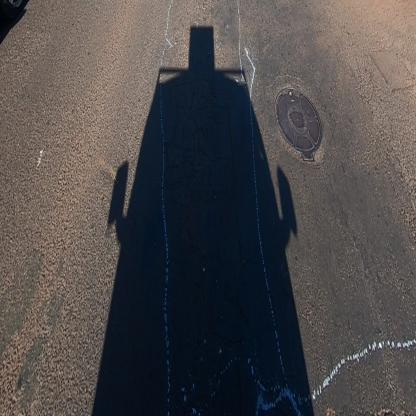manholes: (274, 81, 330, 173)
